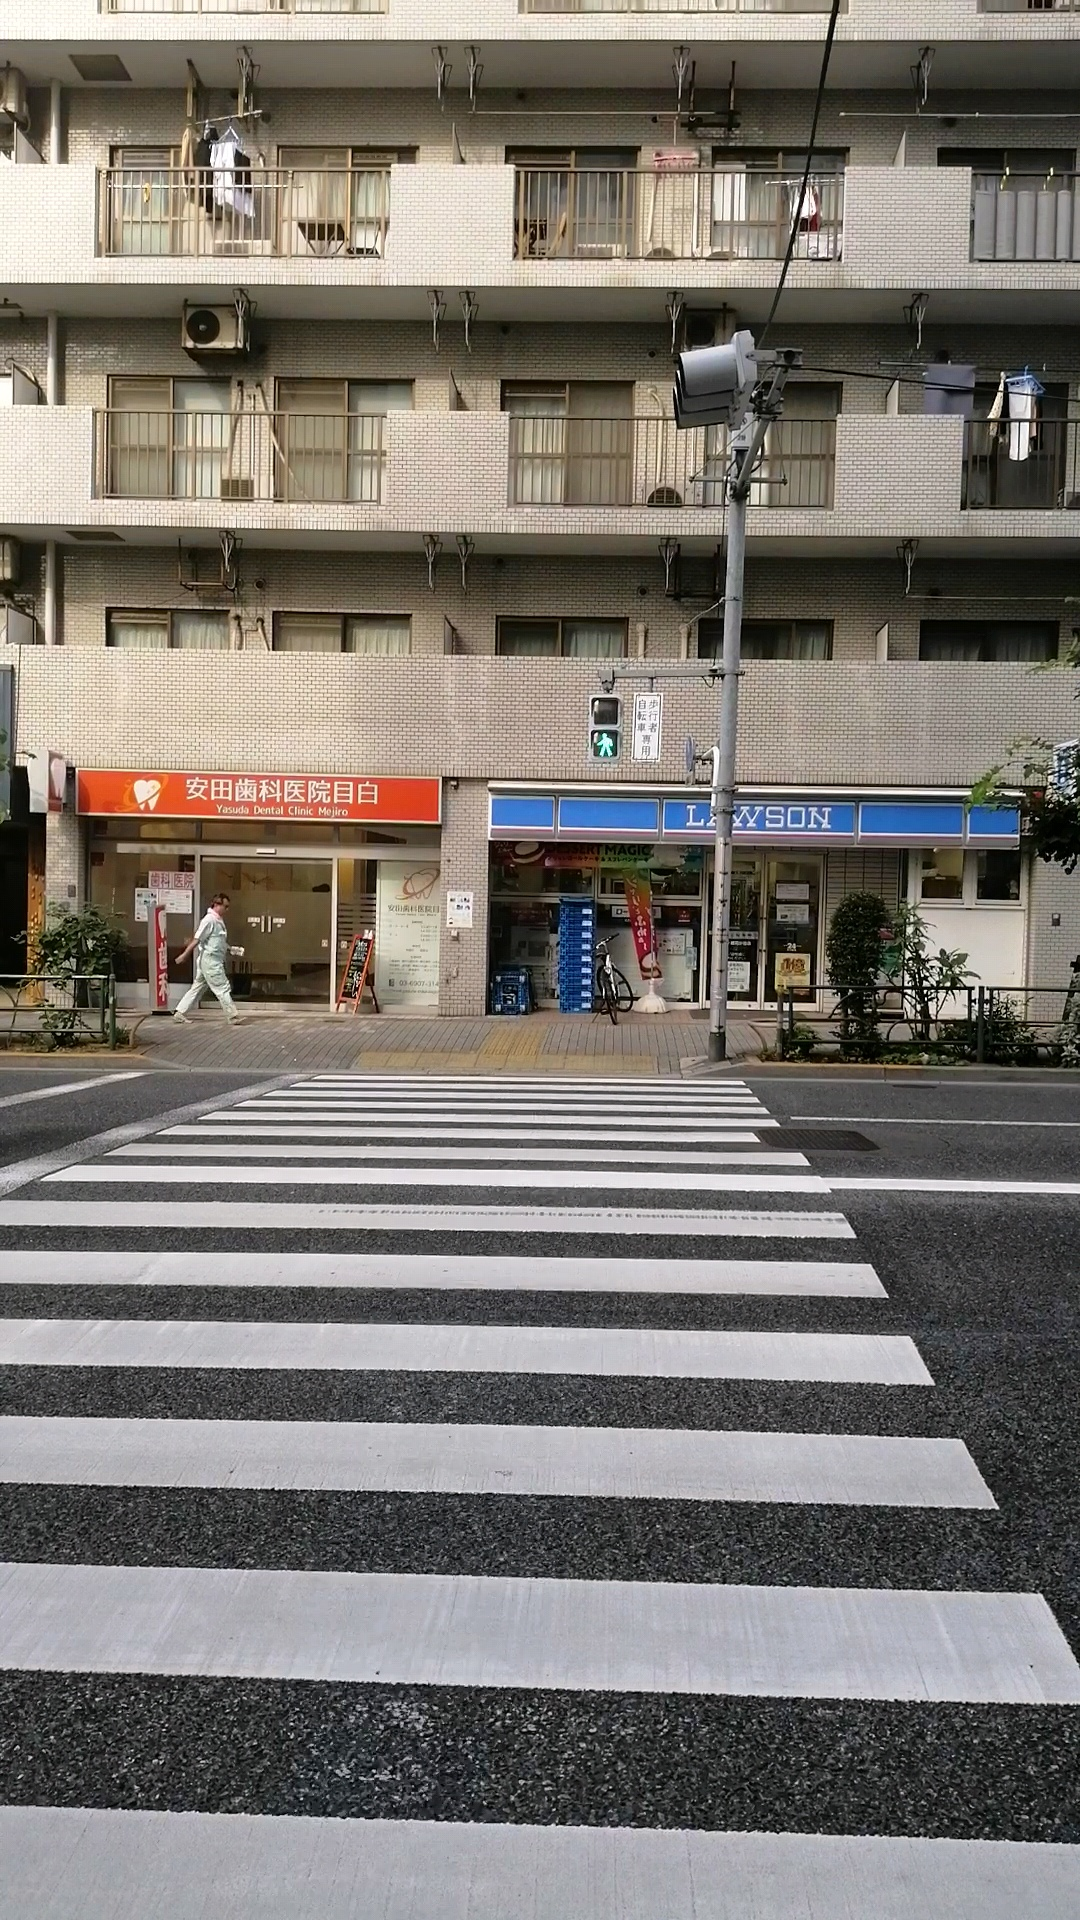green: (585, 694, 621, 764)
